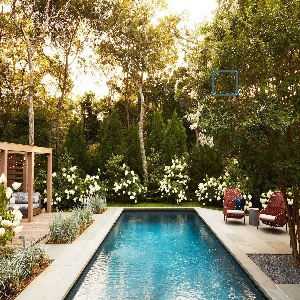square: (208, 68, 241, 97)
